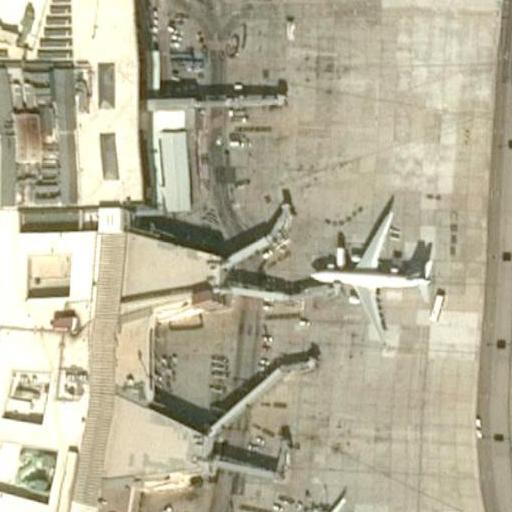Aircraft: (304, 203, 438, 336), (283, 495, 371, 512)
